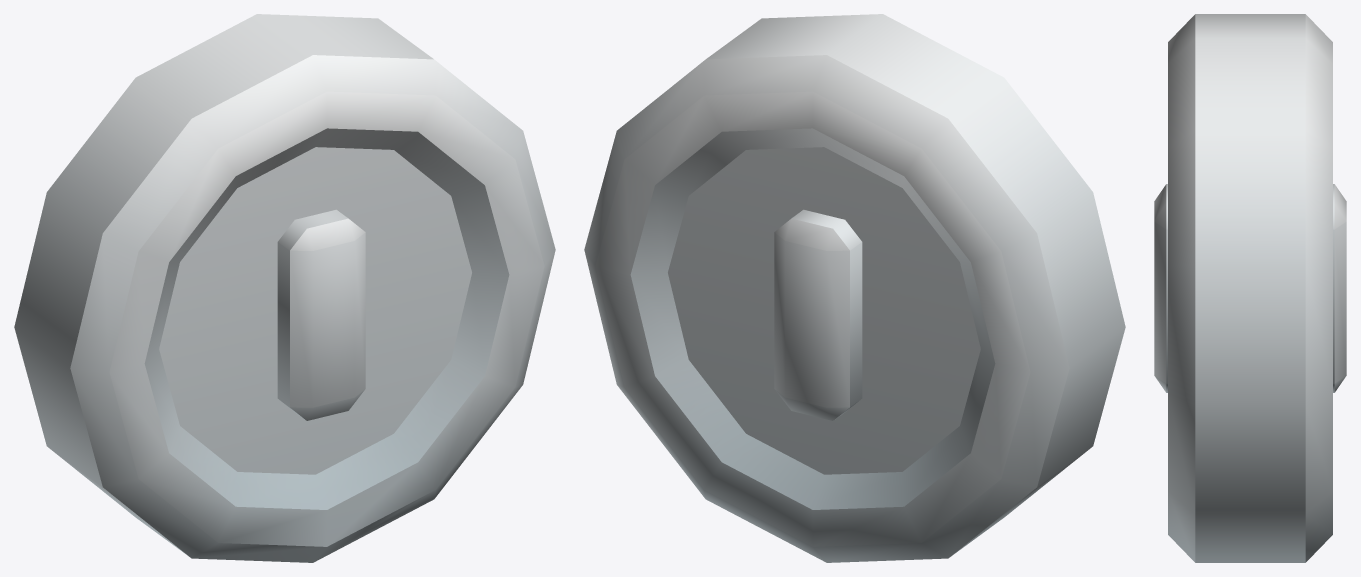
The model's file is Coin.fbx.
3 views of the same model, side by side, from view 1: azimuth 30°, elevation 25°; view 2: azimuth 150°, elevation 25°; view 3: azimuth 270°, elevation 25° (orthographic).
Parts seen in each view (by area): view 1: Coin; view 2: Coin; view 3: Coin.
Boxes of the visible parts, bbox=[...] form: Coin: bbox=[14, 14, 555, 562]; Coin: bbox=[584, 14, 1125, 562]; Coin: bbox=[1154, 14, 1346, 562].
Bounding box in the file's own units: 1 × 1 × 0.3492.
